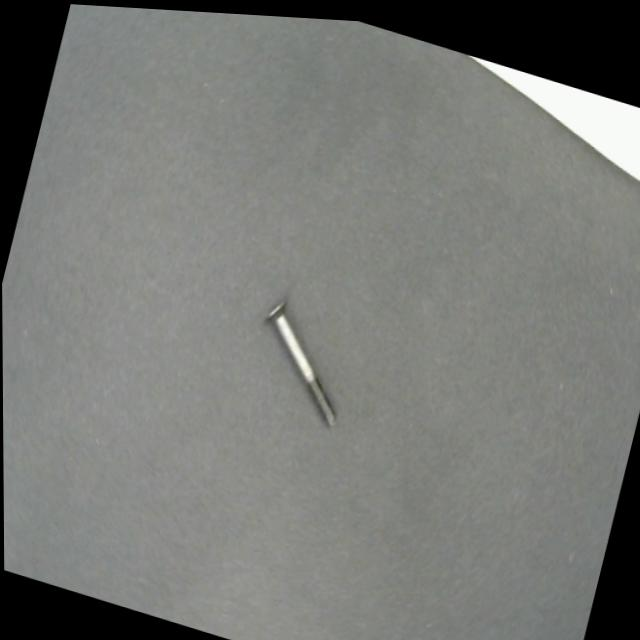FlatHeadSocketScrew: (241, 289, 361, 430)
